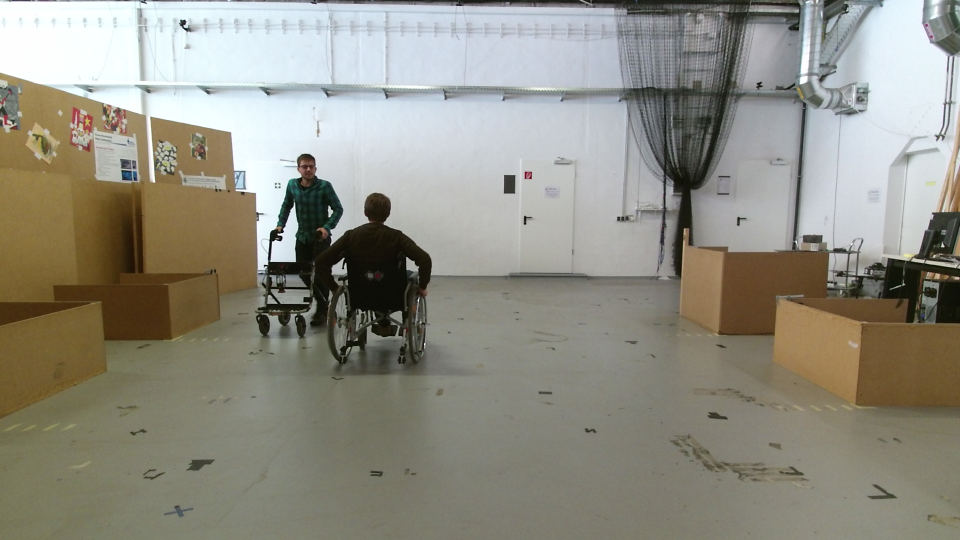wheelchair: (311, 188, 436, 370)
